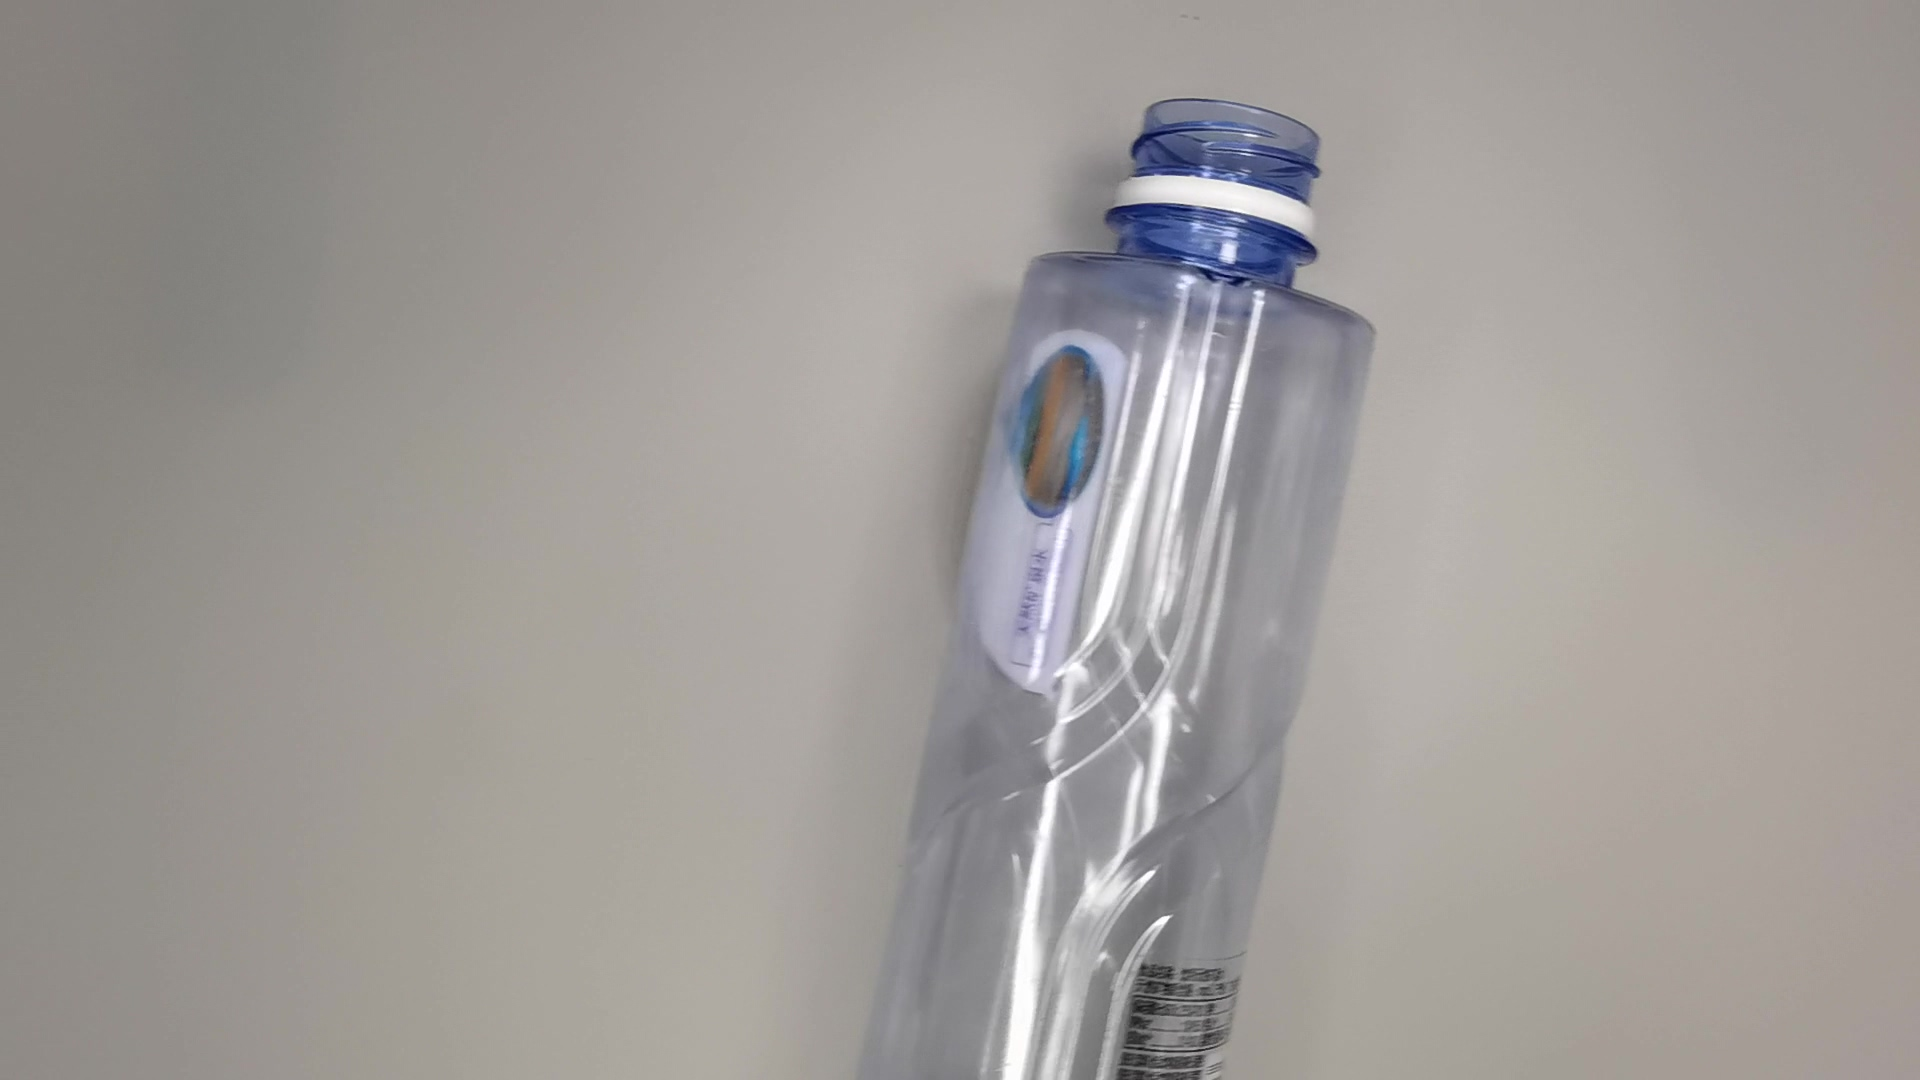bottle: (841, 91, 1377, 1080)
